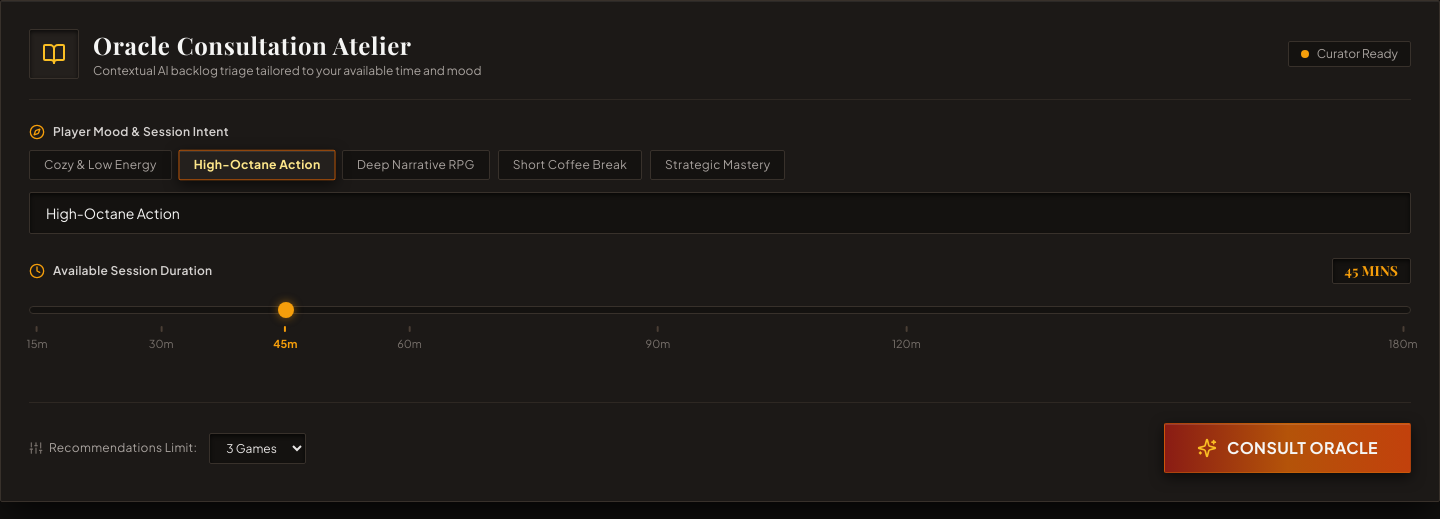
Test: Oracle Components › OraclePanel › updates available minutes duration when clicking a tick mark
Click the button named "120 minutes". click: [906, 339]
box: [892,326,921,352]
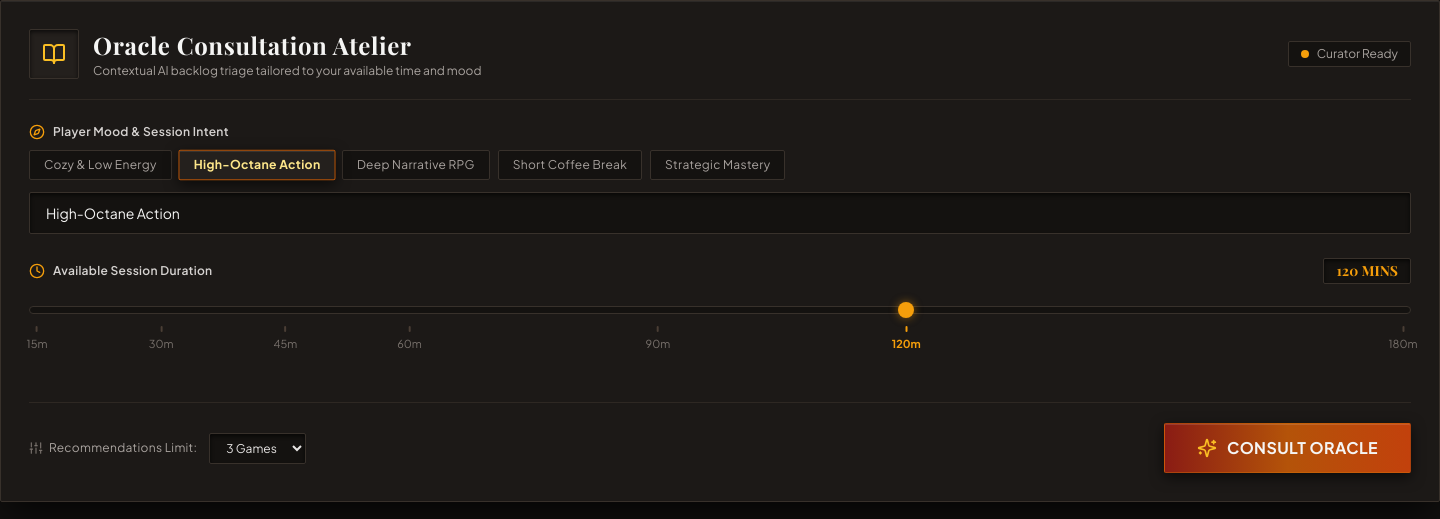
Expected: the text with test id "duration-display" reads "120 MINS", [1324,258,1411,284]
